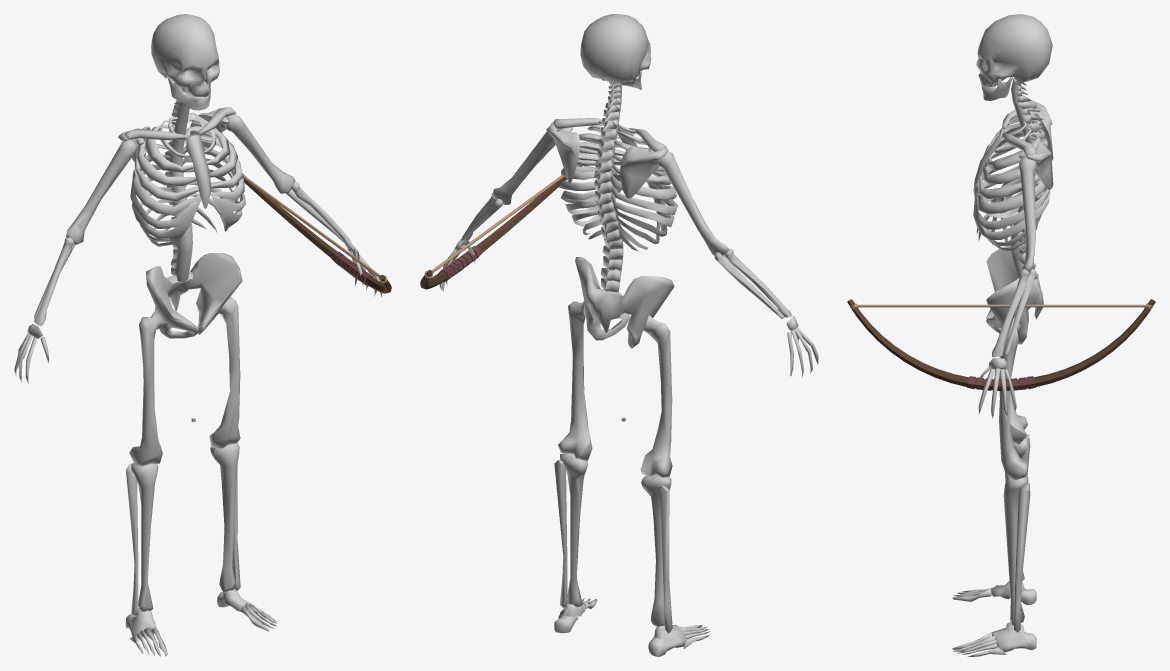
File: skelton.fbx
3 renders of one model, left to right at view 1: azimuth 30°, elevation 25°; view 2: azimuth 150°, elevation 25°; view 3: azimuth 270°, elevation 25°, orthographic. The views are drawn at different scales.
Parts seen in each view (by area): view 1: skelton, Bow; view 2: skelton, Bow; view 3: skelton, Bow.
Part boxes in pixels (x1=…): skelton: x1=14, y1=14, x2=382, y2=656; Bow: x1=242, y1=173, x2=391, y2=293; skelton: x1=439, y1=14, x2=818, y2=656; Bow: x1=420, y1=165, x2=582, y2=289; skelton: x1=952, y1=14, x2=1053, y2=656; Bow: x1=847, y1=299, x2=1155, y2=391.
Size of the model in its own units: 136 by 220 by 101.
